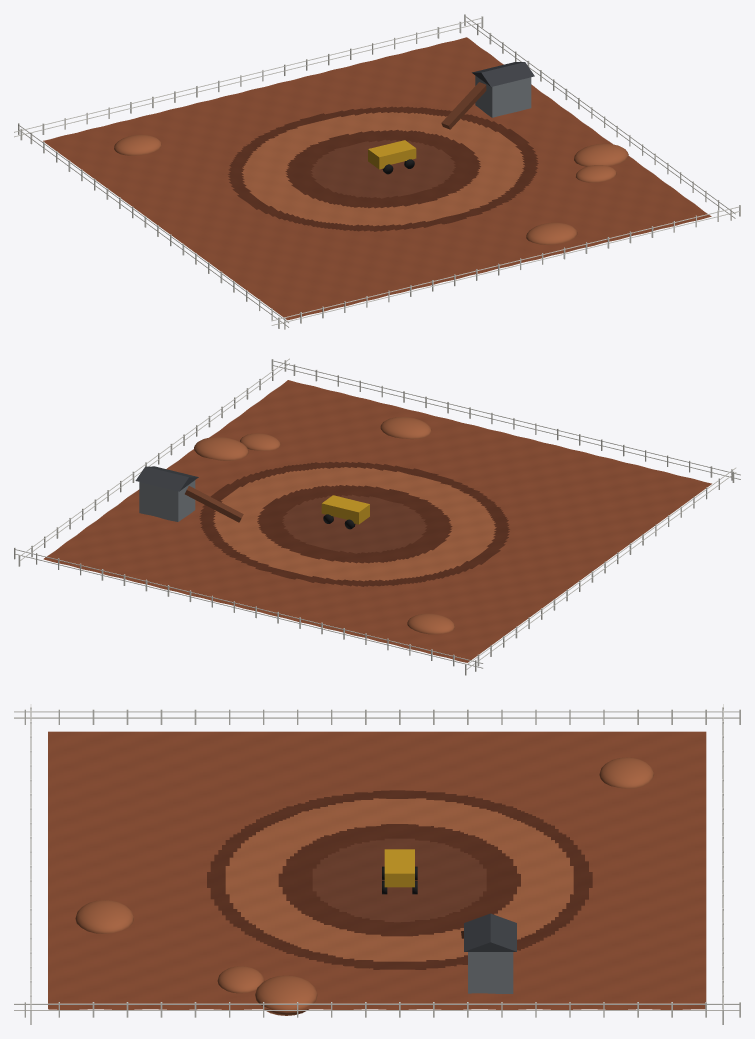
The model's file is mina_ferro.glb.
3 views of the same model, one above another, from view 1: azimuth 30°, elevation 25°; view 2: azimuth 150°, elevation 25°; view 3: azimuth 270°, elevation 25° (orthographic). The views are drawn at different scales.
Parts seen in each view (by area): view 1: chao_cava, chao_britador, chao_pilha, chao_telhado, chao_pilha.003, chao_pilha.002, chao_cerca_trave.001, chao_cerca_trave, chao_cerca_trave.004, chao_cerca_trave.005, chao_correia, chao_pilha.001 (+1 smaller); view 2: chao_cava, chao_britador, chao_pilha, chao_telhado, chao_pilha.003, chao_pilha.002, chao_cerca_trave.005, chao_cerca_trave, chao_cerca_trave.001, chao_cerca_trave.004, chao_correia, chao_pilha.001 (+1 smaller); view 3: chao_cava, chao_britador, chao_pilha, chao_telhado, chao_pilha.003, chao_cerca_trave.002, chao_cerca_trave.003, chao_cerca_trave.007, chao_pilha.002, chao_pilha.001, chao_cacamba, chao_cerca_trave.006.
Part boxes in pixels (x1,y1,x2,y2): chao_cava: (43, 37, 711, 320); chao_britador: (475, 76, 531, 117); chao_pilha: (574, 143, 628, 166); chao_telhado: (472, 62, 534, 86); chao_pilha.003: (526, 222, 577, 244); chao_pilha.002: (114, 134, 161, 155); chao_cerca_trave.001: (14, 17, 481, 132); chao_cerca_trave: (14, 22, 481, 137); chao_cerca_trave.004: (271, 211, 739, 325); chao_cerca_trave.005: (271, 206, 739, 321); chao_correia: (441, 82, 486, 129); chao_pilha.001: (576, 165, 616, 182); chao_cava: (43, 380, 711, 662); chao_britador: (139, 480, 195, 521); chao_pilha: (194, 437, 248, 460); chao_telhado: (135, 466, 198, 491); chao_pilha.003: (380, 417, 431, 439); chao_pilha.002: (407, 613, 454, 634); chao_cerca_trave.005: (273, 360, 740, 475); chao_cerca_trave: (15, 553, 483, 668); chao_cerca_trave.001: (15, 549, 483, 663); chao_cerca_trave.004: (273, 365, 740, 479); chao_correia: (185, 486, 243, 522); chao_pilha.001: (240, 433, 280, 450); chao_cava: (48, 731, 706, 1009); chao_britador: (468, 952, 513, 993); chao_pilha: (255, 975, 317, 1015); chao_telhado: (464, 913, 516, 951); chao_pilha.003: (75, 900, 133, 933); chao_cerca_trave.002: (14, 717, 739, 718); chao_cerca_trave.003: (14, 711, 739, 712); chao_cerca_trave.007: (14, 1003, 739, 1004); chao_pilha.002: (599, 757, 653, 788); chao_pilha.001: (217, 966, 264, 993); chao_cacamba: (384, 857, 414, 887); chao_cerca_trave.006: (14, 1010, 739, 1010).
Size of the model in its own units: 48.05 by 4.78 by 48.05.
